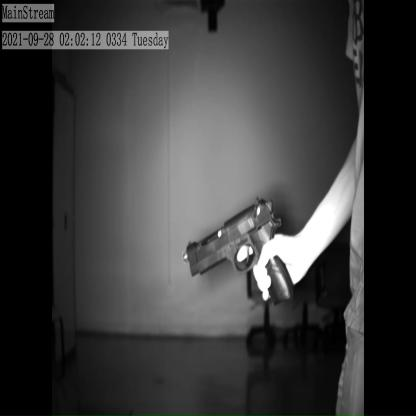weapon: (183, 192, 298, 308)
